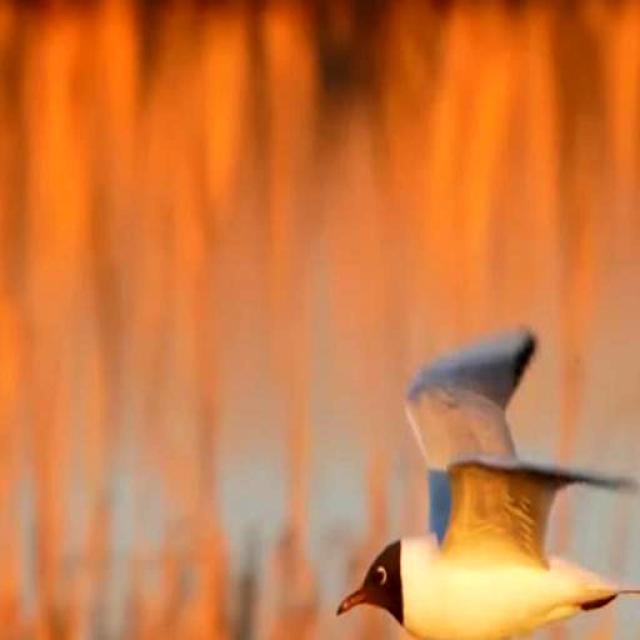airplane: (335, 341, 640, 640)
